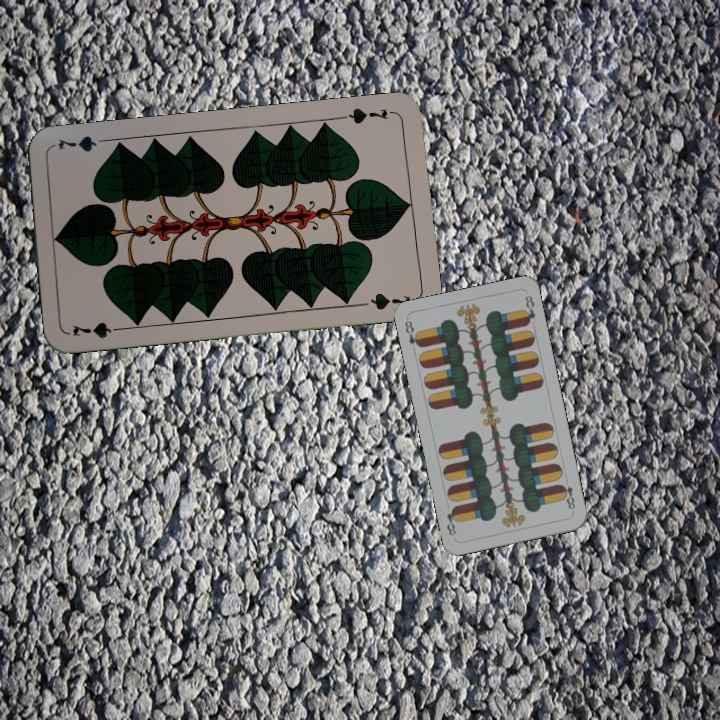E8: (401, 317, 424, 350), (556, 480, 578, 512)
G7: (68, 318, 128, 341), (338, 104, 398, 126)
